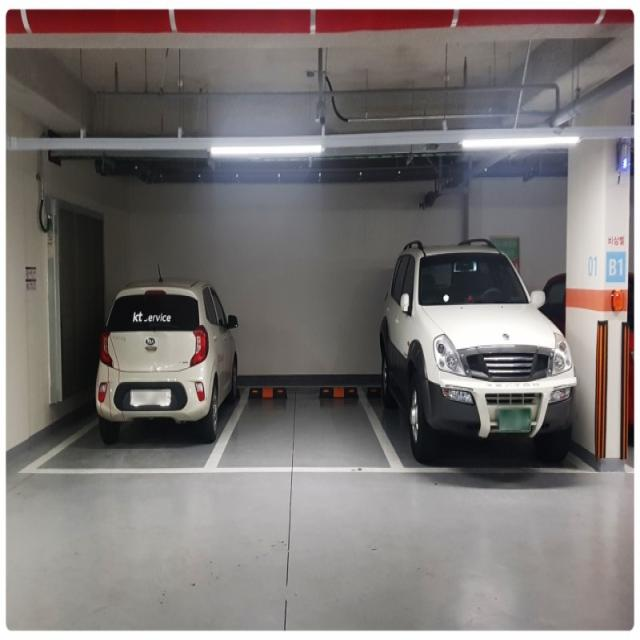empty: (208, 381, 410, 468)
occupied: (384, 228, 605, 470), (84, 263, 222, 483)
